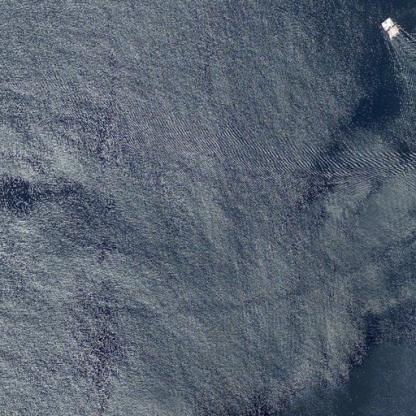ship: (377, 10, 404, 42)
